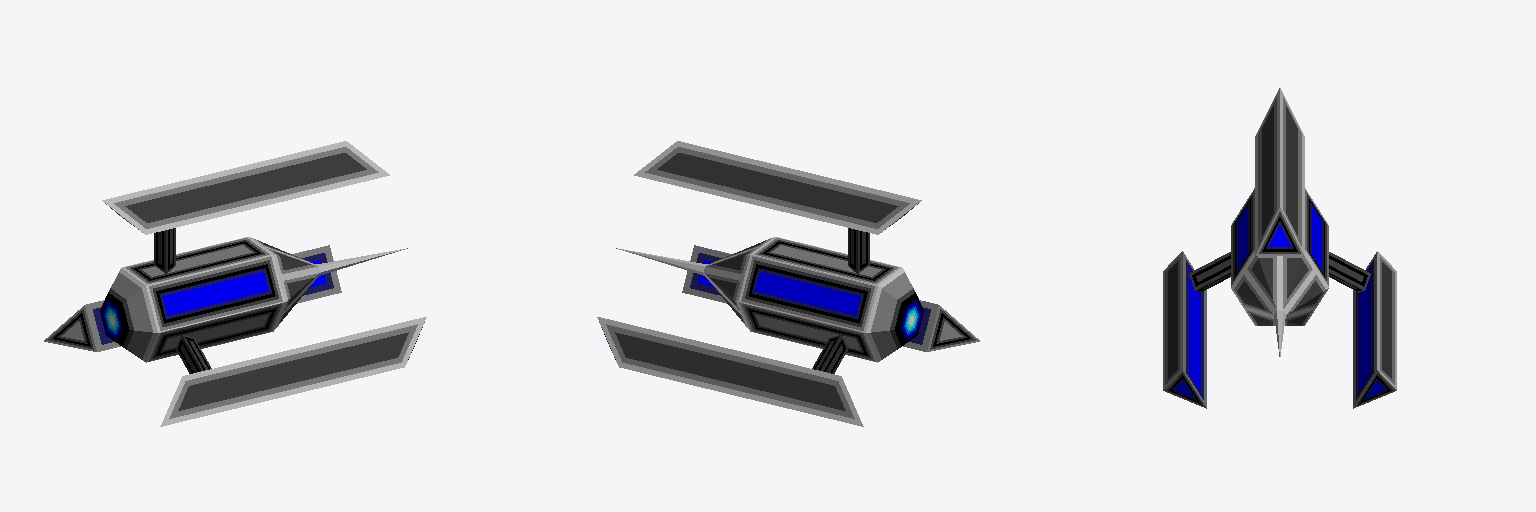
3 views of the same model, side by side, from view 1: azimuth 30°, elevation 25°; view 2: azimuth 150°, elevation 25°; view 3: azimuth 270°, elevation 25° (orthographic).
Bounding box in the file's own units: 2.9 × 1.67 × 1.91.
1 materials, 1 textured.